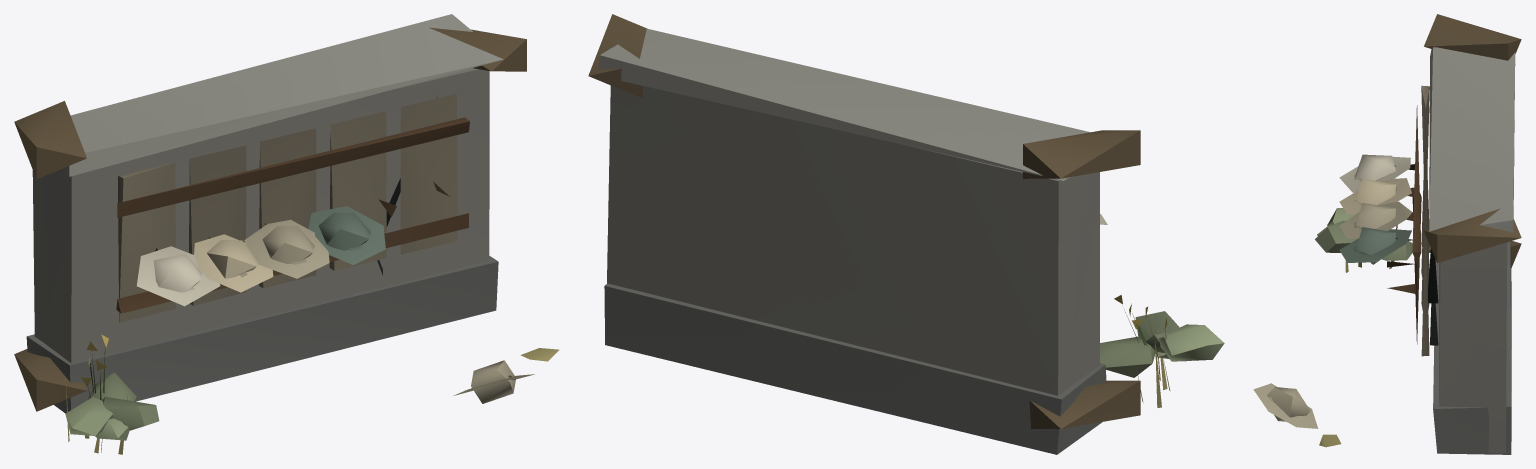
The model's file is hardhat_rack_b_lod2.glb.
3 views of the same model, side by side, from view 1: azimuth 30°, elevation 25°; view 2: azimuth 150°, elevation 25°; view 3: azimuth 270°, elevation 25° (orthographic). The views are drawn at different scales.
Visible parts, largest first — view 1: Surface.001; view 2: Surface.001; view 3: Surface.001.
Part boxes in pixels (box(x1,y1,x2,y2)): Surface.001: box(14, 14, 559, 454); Surface.001: box(588, 14, 1224, 454); Surface.001: box(1253, 14, 1521, 454).
Bounding box in the file's own units: 4.91 × 2.59 × 2.54.
